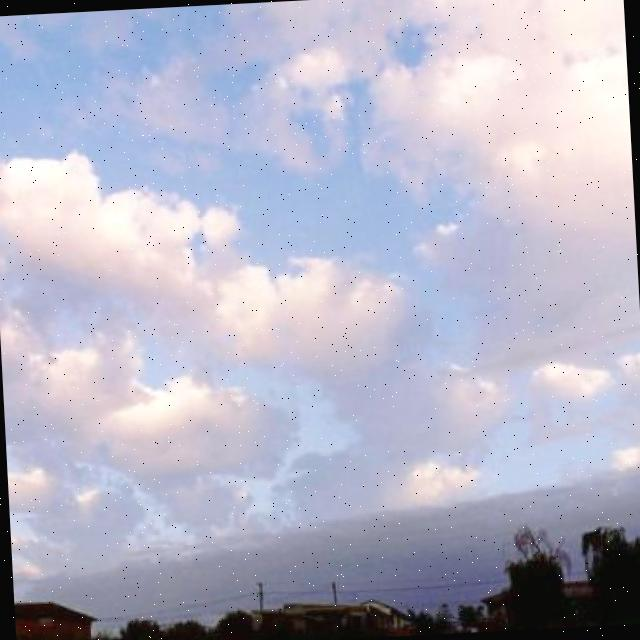Sc: (1, 11, 640, 485)
